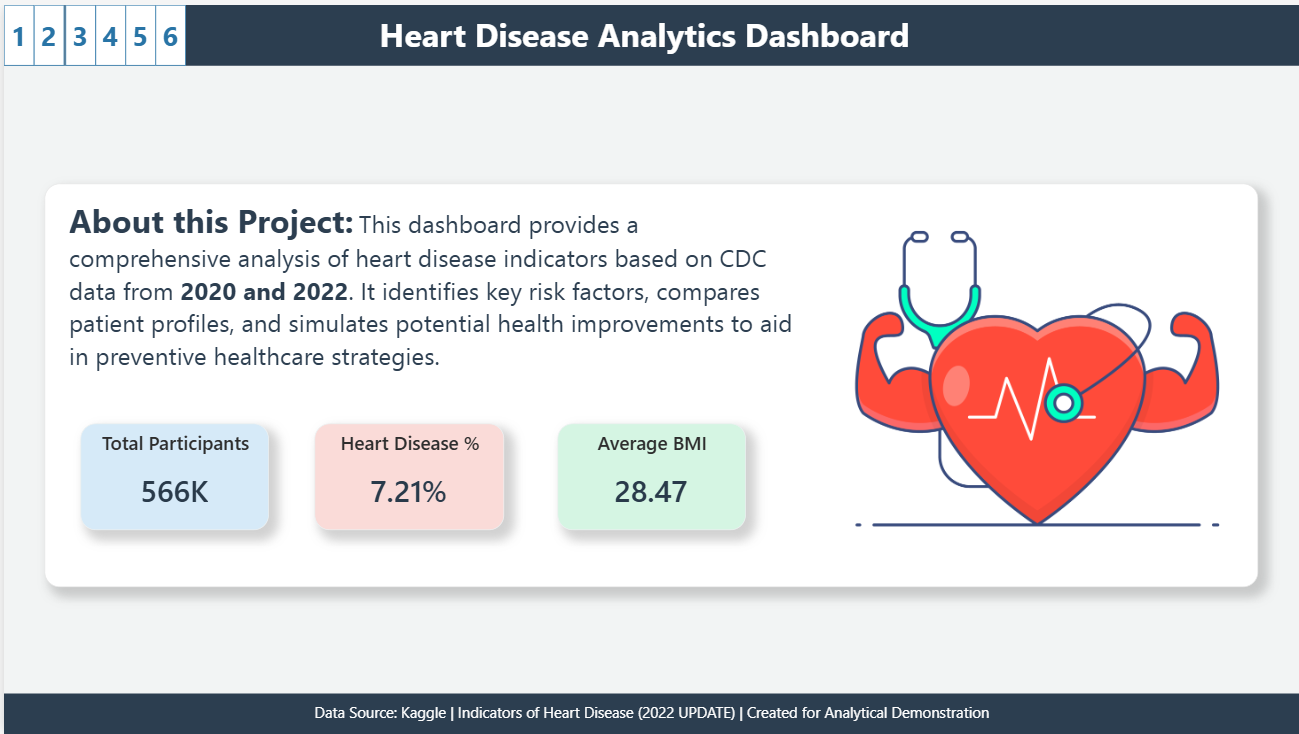

The page's visual inventory and layout, read from the dashboard file:
{"tool":"powerbi","page":{"name":"Home","canvas":[1280,720],"ordinal":0},"visuals":[{"type":"actionButton","box":[0,0,30,60],"z":0,"group":"g2"},{"type":"shape","box":[40.5,176.2,1199,399],"z":0},{"type":"shape","box":[0,0,1280,60],"z":1000},{"type":"actionButton","box":[30,0.1,30,60],"z":1000,"group":"g2"},{"type":"actionButton","box":[90,0.1,30,60],"z":2000,"group":"g2"},{"type":"textbox","box":[366,2,546,54],"z":2000},{"type":"group","id":"g1","title":"Group 3","box":[0,0,180,60.1],"z":3000},{"type":"actionButton","box":[60,0.1,30,60],"z":3000,"group":"g2"},{"type":"actionButton","box":[120,0.1,30,60],"z":4000,"group":"g2"},{"type":"textbox","box":[0,680,1280,40],"z":4000},{"type":"textbox","box":[59.9,185.9,735.6,187.4],"z":5000},{"type":"image","box":[802,174,438,400],"z":6000},{"type":"cardVisual","title":"Total Participants","fields":{"Data":["Key Measures.Total Participants"]},"box":[74.9,413.2,186.3,105.3],"z":7000},{"type":"cardVisual","title":"Average BMI","fields":{"Data":["Key Measures.Average BMI Score"]},"box":[546.6,412.7,185.9,105.5],"z":8000},{"type":"group","id":"g2","title":"Group 2","box":[0,0,150,60.1],"z":9000,"group":"g1"},{"type":"cardVisual","title":"Heart Disease %","fields":{"Data":["Key Measures.Overall HD Rate"]},"box":[307.1,412.7,187.4,105.5],"z":9000},{"type":"actionButton","box":[150,0,30,60],"z":10500,"group":"g1"}]}

Visuals, with their boxes in screenshot pixels (x1, y1, x2, y2), scaled from the page's 1280x720 canvas onto the 1299x734 screenshot:
actionButton: region(0, 0, 30, 61)
shape: region(41, 180, 1258, 586)
shape: region(0, 0, 1298, 61)
actionButton: region(30, 0, 61, 61)
actionButton: region(91, 0, 122, 61)
textbox: region(371, 2, 926, 57)
"Group 3" group: region(0, 0, 183, 61)
actionButton: region(61, 0, 91, 61)
actionButton: region(122, 0, 152, 61)
textbox: region(0, 693, 1298, 733)
textbox: region(61, 190, 807, 381)
image: region(814, 177, 1258, 585)
"Total Participants" cardVisual: region(76, 421, 265, 529)
"Average BMI" cardVisual: region(555, 421, 743, 528)
"Group 2" group: region(0, 0, 152, 61)
"Heart Disease %" cardVisual: region(312, 421, 502, 528)
actionButton: region(152, 0, 183, 61)
